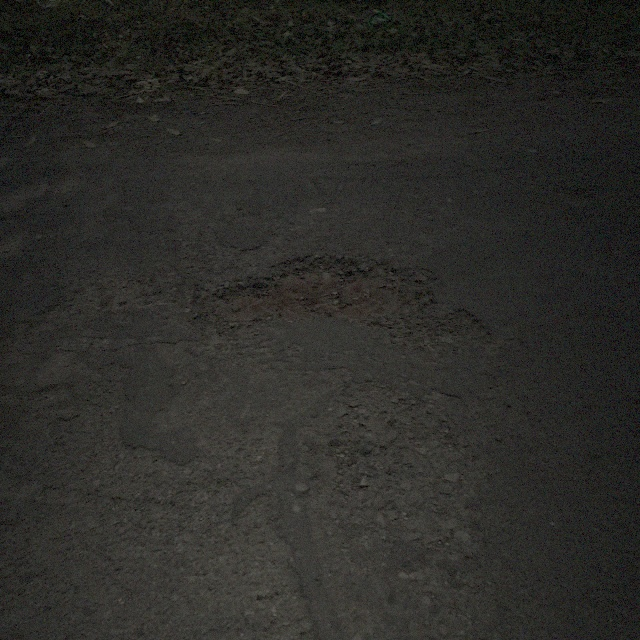pothole: (191, 247, 496, 355)
